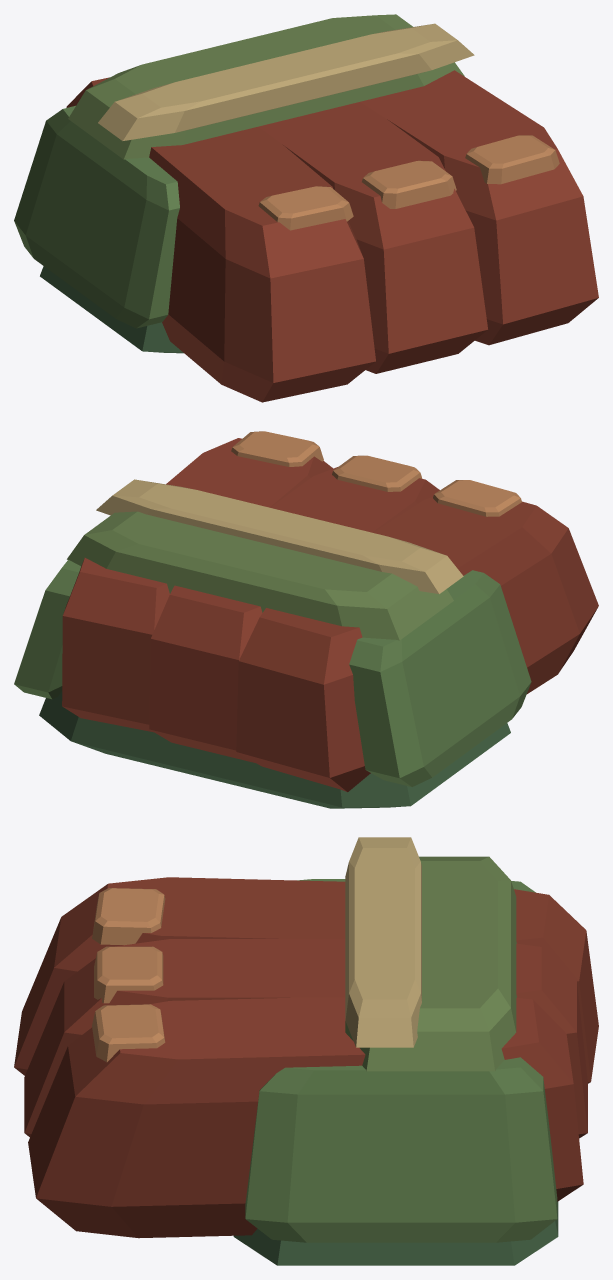
Rendered from viltmat.glb.
3 views of the same model, one above another, from view 1: azimuth 30°, elevation 25°; view 2: azimuth 150°, elevation 25°; view 3: azimuth 270°, elevation 25° (orthographic). The views are drawn at different scales.
Parts seen in each view (by area): view 1: viltmat; view 2: viltmat; view 3: viltmat.
Boxes of the visible parts, x1=… form: viltmat: x1=14, y1=14, x2=598, y2=402; viltmat: x1=14, y1=431, x2=598, y2=808; viltmat: x1=14, y1=837, x2=598, y2=1265.
Bounding box in the file's own units: 0.297 × 0.152 × 0.3188.
